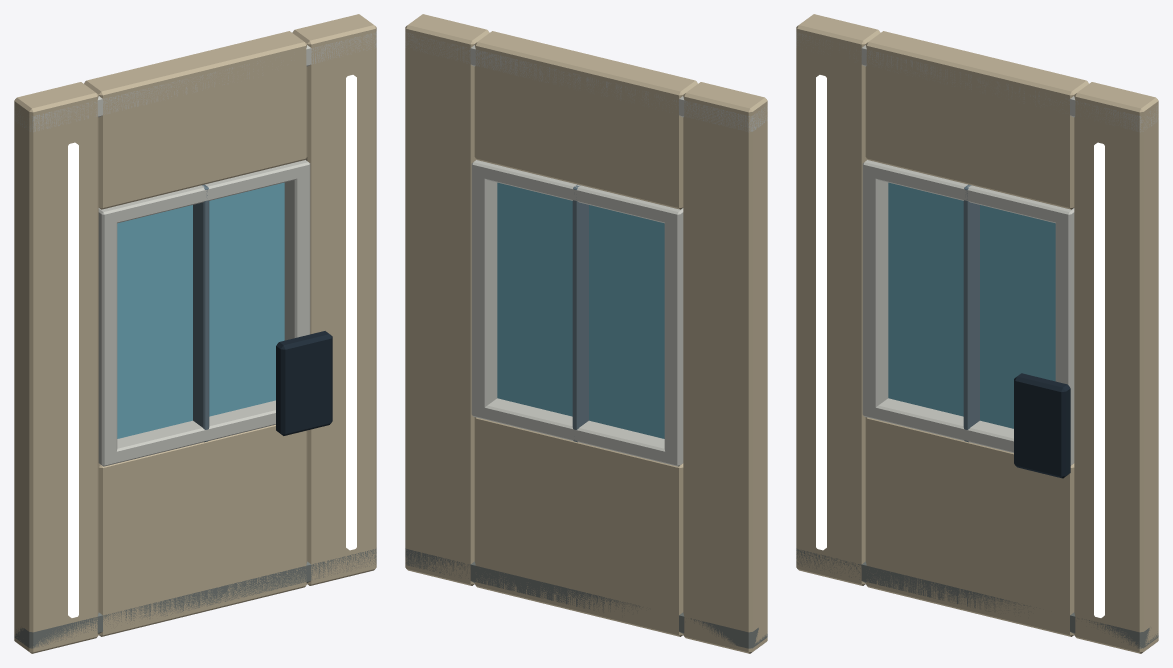
File: architecture-scifi-window-wall.lod0.glb
3 views of the same model, side by side, from view 1: azimuth 30°, elevation 25°; view 2: azimuth 150°, elevation 25°; view 3: azimuth 330°, elevation 25° (orthographic).
Parts seen in each view (by area): view 1: architecture-scifi-window-wall__body; view 2: architecture-scifi-window-wall__body; view 3: architecture-scifi-window-wall__body.
Boxes of the visible parts, left/top/right/bottom form: architecture-scifi-window-wall__body: left=14, top=14, right=376, bottom=653; architecture-scifi-window-wall__body: left=405, top=14, right=767, bottom=653; architecture-scifi-window-wall__body: left=796, top=14, right=1158, bottom=653.
Bounding box in the file's own units: 2 × 3 × 0.375.
